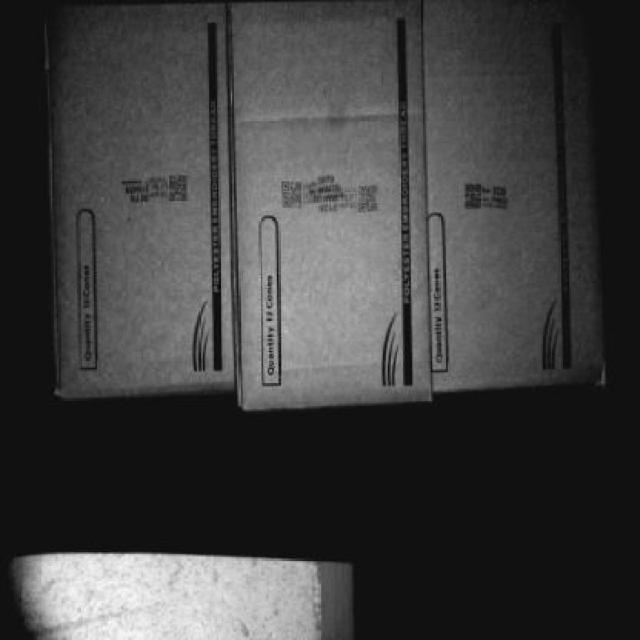cardboxes: (232, 2, 428, 400), (48, 4, 234, 402), (424, 1, 604, 388)
